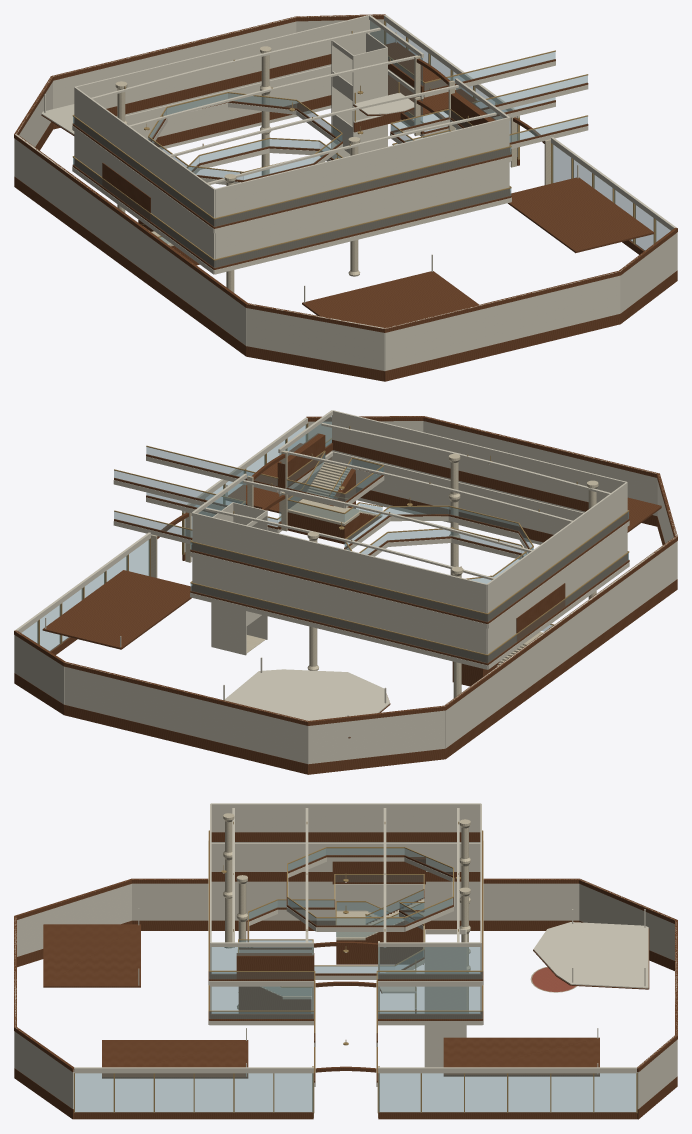
File: AST-LIB-011.glb
3 renders of one model, top to bottom at view 1: azimuth 30°, elevation 25°; view 2: azimuth 150°, elevation 25°; view 3: azimuth 270°, elevation 25°, orthographic. The views are drawn at different scales.
Parts seen in each view (by area): view 1: LIB_static_ivory_enamel, LIB_static_warm_walnut, LIB_static_glass, LIB_static_champagne_metal, LIB_static_warm_stone; view 2: LIB_static_ivory_enamel, LIB_static_warm_walnut, LIB_static_glass, LIB_static_champagne_metal, LIB_static_warm_stone, LIB_steps_warm_stone; view 3: LIB_static_ivory_enamel, LIB_static_warm_walnut, LIB_static_glass, LIB_static_champagne_metal, LIB_static_warm_stone, LIB_finish_clay_weave, LIB_steps_warm_stone.
Part boxes in pixels (bbox=[...]): LIB_static_ivory_enamel: bbox=[14, 14, 677, 370]; LIB_static_warm_walnut: bbox=[14, 14, 677, 381]; LIB_static_glass: bbox=[73, 20, 670, 267]; LIB_static_champagne_metal: bbox=[72, 21, 656, 260]; LIB_static_warm_stone: bbox=[115, 46, 550, 292]; LIB_static_ivory_enamel: bbox=[14, 410, 677, 764]; LIB_static_warm_walnut: bbox=[14, 416, 677, 774]; LIB_static_glass: bbox=[21, 416, 628, 663]; LIB_static_champagne_metal: bbox=[37, 422, 629, 655]; LIB_static_warm_stone: bbox=[151, 450, 598, 697]; LIB_steps_warm_stone: bbox=[303, 462, 527, 666]; LIB_static_ivory_enamel: bbox=[14, 803, 677, 1109]; LIB_static_warm_walnut: bbox=[14, 832, 677, 1119]; LIB_static_glass: bbox=[75, 848, 636, 1112]; LIB_static_champagne_metal: bbox=[74, 821, 637, 1113]; LIB_static_warm_stone: bbox=[223, 813, 470, 1117]; LIB_finish_clay_weave: bbox=[532, 967, 575, 991]; LIB_steps_warm_stone: bbox=[260, 899, 423, 996].
Bounding box in the file's own units: 49.99 × 15 × 67.99.
Materials: 8 (6 with a texture image).
